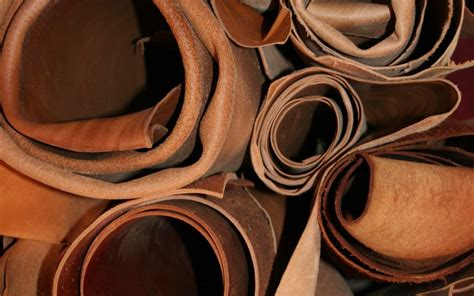cuero: (2, 1, 474, 296)
